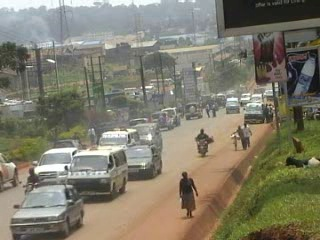Car: (7, 180, 88, 239), (28, 144, 81, 189), (121, 140, 164, 180), (127, 121, 163, 150), (50, 137, 84, 154), (180, 101, 207, 121), (148, 110, 174, 130), (125, 114, 150, 131), (239, 90, 252, 107)
Motorcycle: (15, 165, 42, 198), (195, 129, 212, 158)
